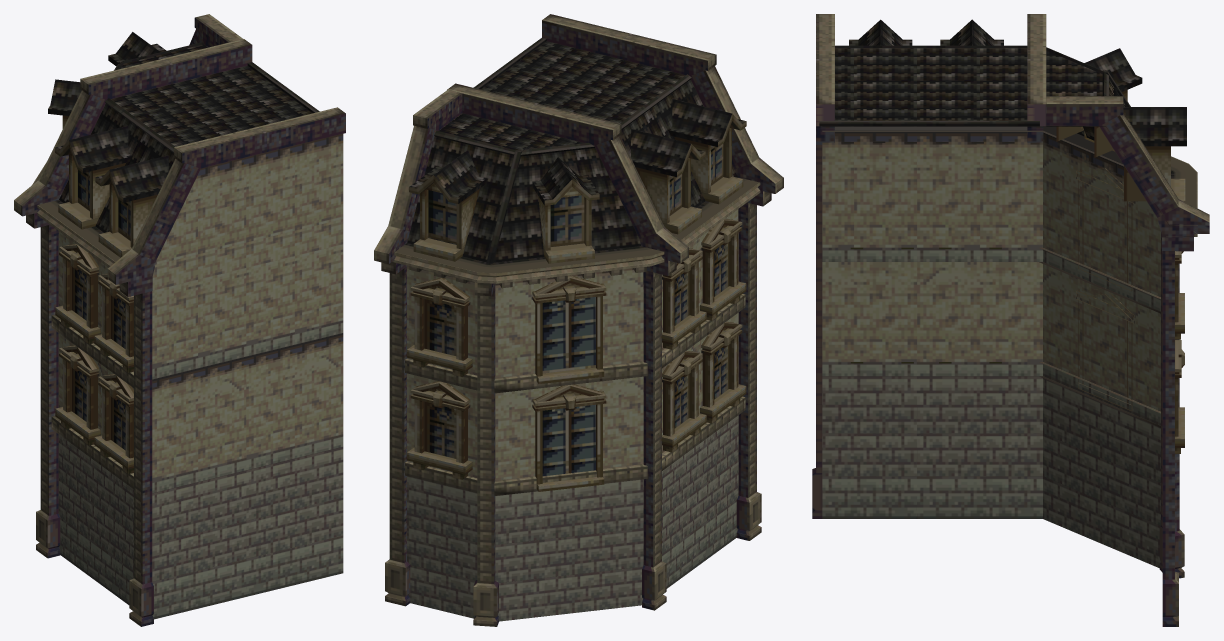
The model's file is EnvBdgMD_City_B_Outdoor_L_D.FBX.
The picture shows the model from 3 angles, left to right: view 1: azimuth 30°, elevation 25°; view 2: azimuth 150°, elevation 25°; view 3: azimuth 270°, elevation 25°; orthographic projection. The views are drawn at different scales.
Parts seen in each view (by area): view 1: EnvBdgMD_City_B_Outdoor_L_D; view 2: EnvBdgMD_City_B_Outdoor_L_D; view 3: EnvBdgMD_City_B_Outdoor_L_D.
Part boxes in pixels (box(x1,y1,x2,y2)): EnvBdgMD_City_B_Outdoor_L_D: box(14, 14, 345, 626); EnvBdgMD_City_B_Outdoor_L_D: box(374, 14, 783, 626); EnvBdgMD_City_B_Outdoor_L_D: box(812, 14, 1209, 626).
Size of the model in its own units: 481 by 913 by 631.
Materials: 1 (1 with a texture image).
